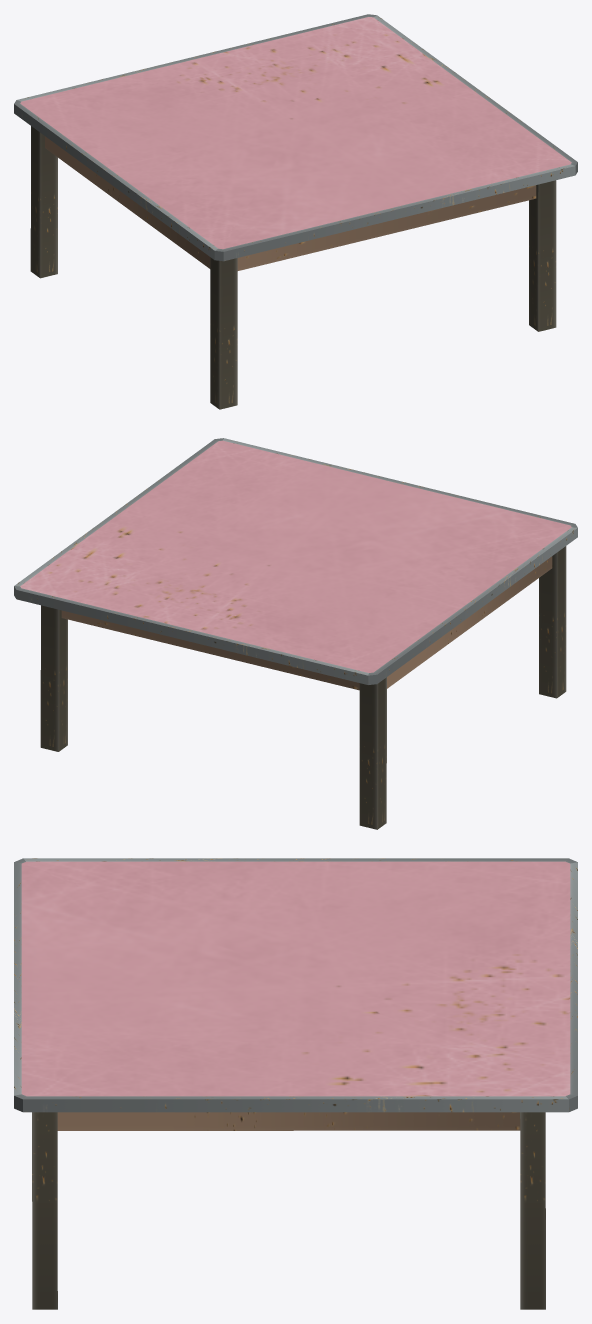
File: table02c.fbx
The picture shows the model from 3 angles, top to bottom: view 1: azimuth 30°, elevation 25°; view 2: azimuth 150°, elevation 25°; view 3: azimuth 270°, elevation 25°; orthographic projection. The views are drawn at different scales.
Parts seen in each view (by area): view 1: table02c; view 2: table02c; view 3: table02c.
Part boxes in pixels (x1,y1,x2,y2): table02c: [14, 14, 577, 409]; table02c: [14, 438, 577, 829]; table02c: [14, 858, 577, 1309].
Size of the model in its own units: 105 by 45.32 by 104.
